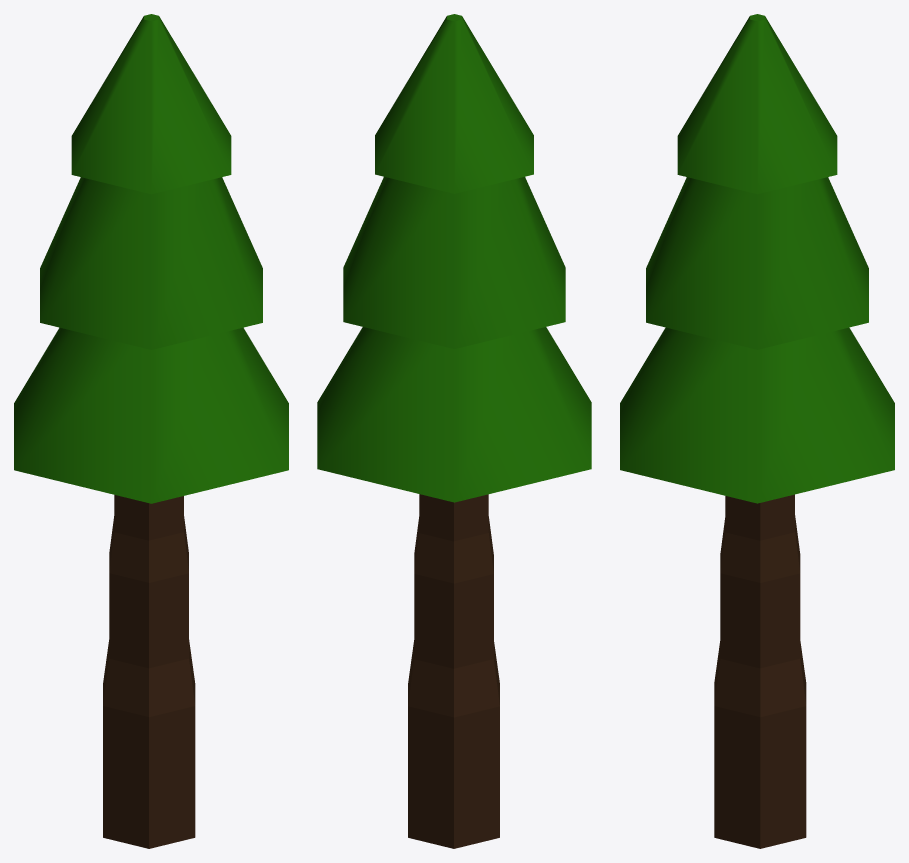
File: pinetree2.FBX
3 views of the same model, side by side, from view 1: azimuth 30°, elevation 25°; view 2: azimuth 150°, elevation 25°; view 3: azimuth 270°, elevation 25° (orthographic).
Visible parts, largest first — view 1: Cylinder002, Cylinder003, Cylinder001, Cylinder004; view 2: Cylinder002, Cylinder003, Cylinder001, Cylinder004; view 3: Cylinder002, Cylinder003, Cylinder001, Cylinder004.
Part boxes in pixels (x1,y1,x2,y2): Cylinder002: [14, 327, 288, 503]; Cylinder003: [40, 177, 262, 349]; Cylinder001: [103, 495, 195, 848]; Cylinder004: [71, 14, 231, 194]; Cylinder002: [317, 327, 591, 502]; Cylinder003: [343, 177, 565, 348]; Cylinder001: [408, 494, 499, 848]; Cylinder004: [375, 14, 533, 193]; Cylinder002: [620, 327, 894, 503]; Cylinder003: [646, 177, 868, 349]; Cylinder001: [714, 494, 806, 848]; Cylinder004: [677, 14, 837, 194].
Bounding box in the file's own units: 1266 × 3565 × 1097.
